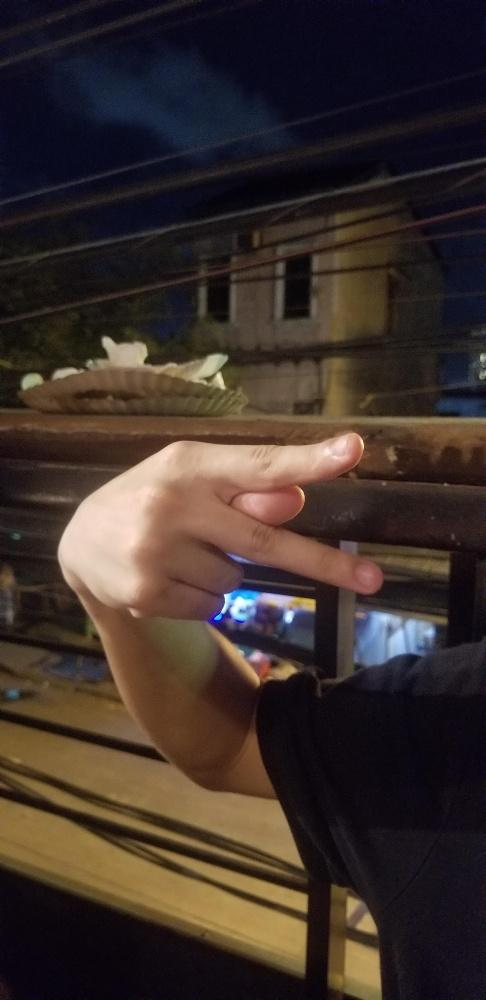k: (51, 423, 389, 624)
